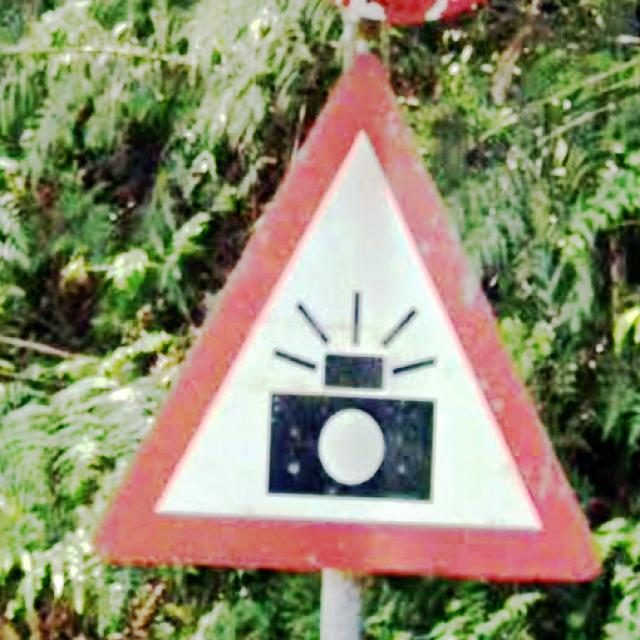speedcamera: (97, 54, 600, 582)
